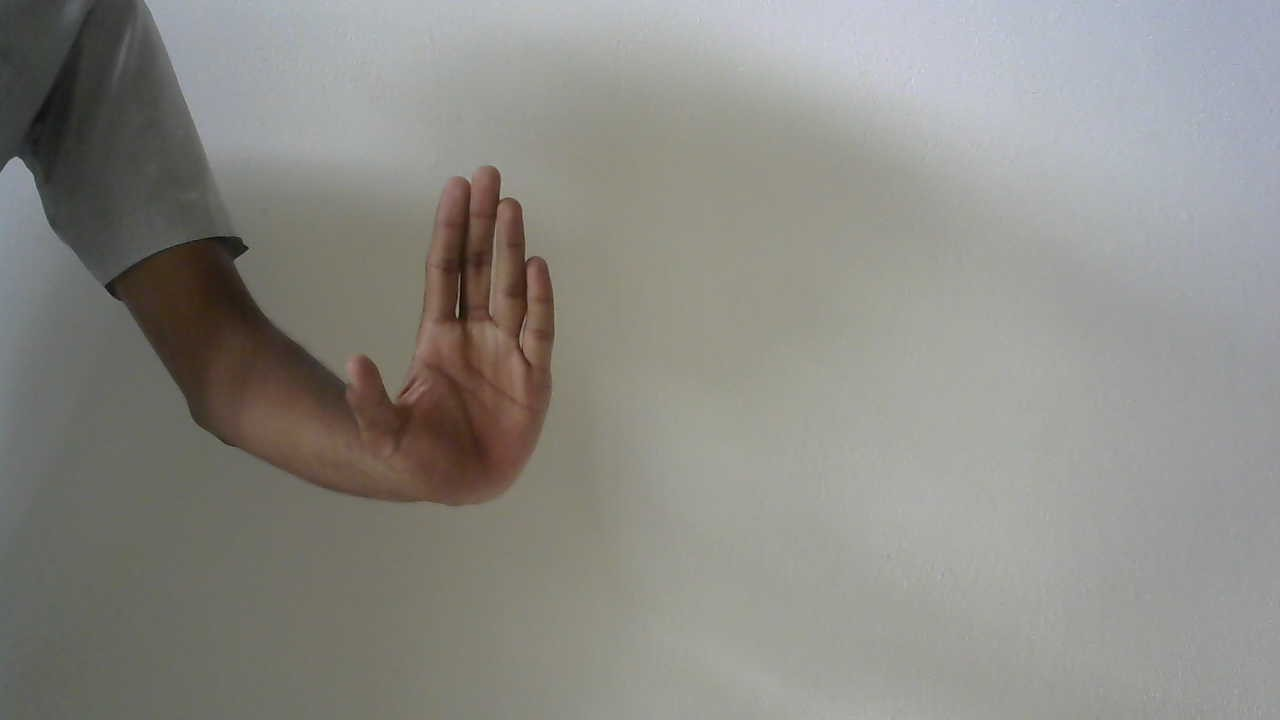hello: (334, 157, 563, 517)
